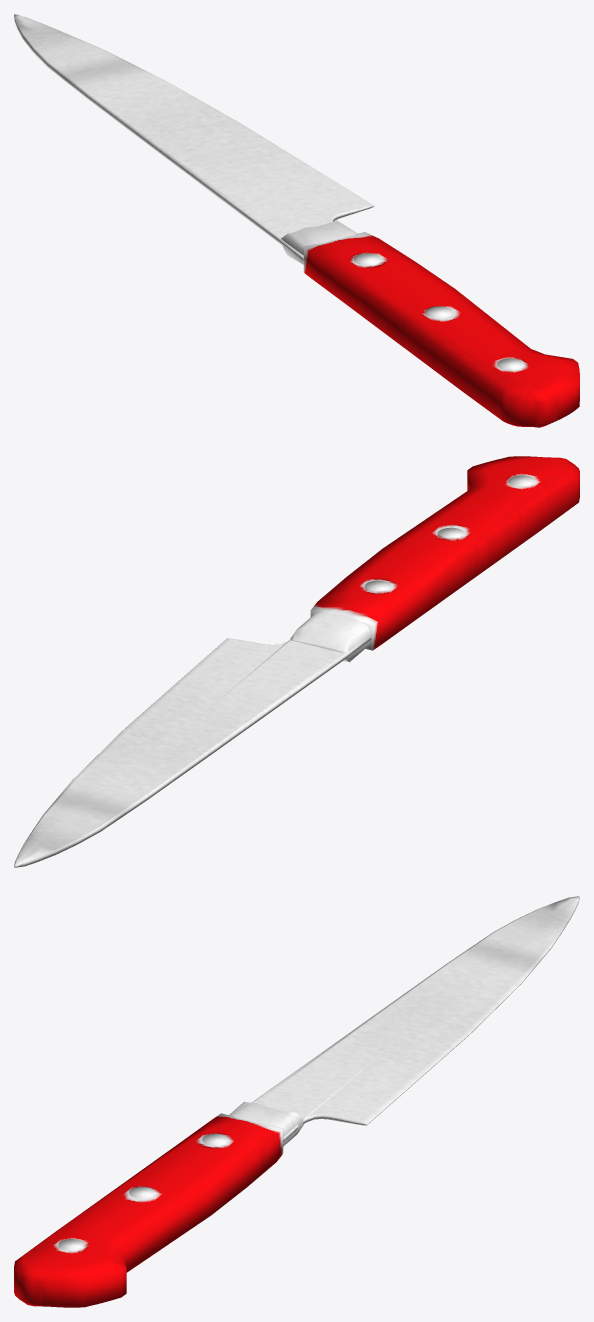
Rendered from knife.dae.
The picture shows the model from 3 angles, top to bottom: view 1: azimuth 30°, elevation 25°; view 2: azimuth 150°, elevation 25°; view 3: azimuth 330°, elevation 25°; orthographic projection.
Visible parts, largest first — view 1: Cube; view 2: Cube; view 3: Cube.
Part boxes in pixels (x1,y1,x2,y2): Cube: [14, 14, 579, 427]; Cube: [14, 456, 579, 867]; Cube: [14, 896, 579, 1307].
Bounding box in the file's own units: 0.0246 × 0.2077 × 0.00807.
Materials: 1 (1 with a texture image).
